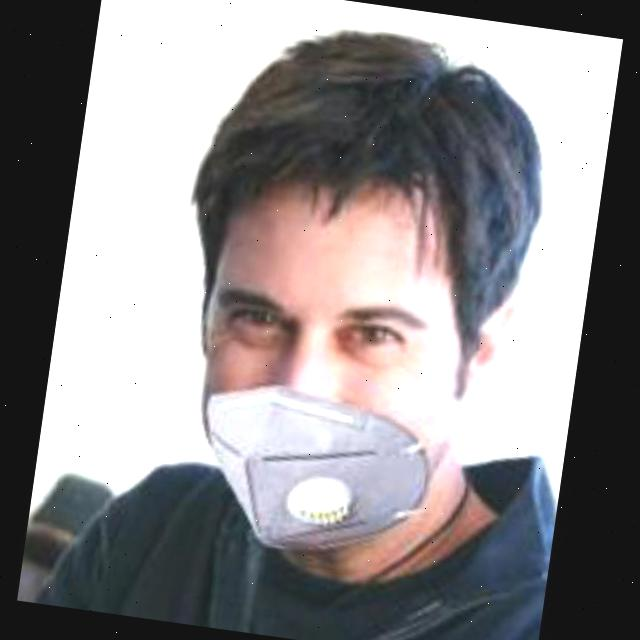suspicion: (193, 52, 505, 536)
